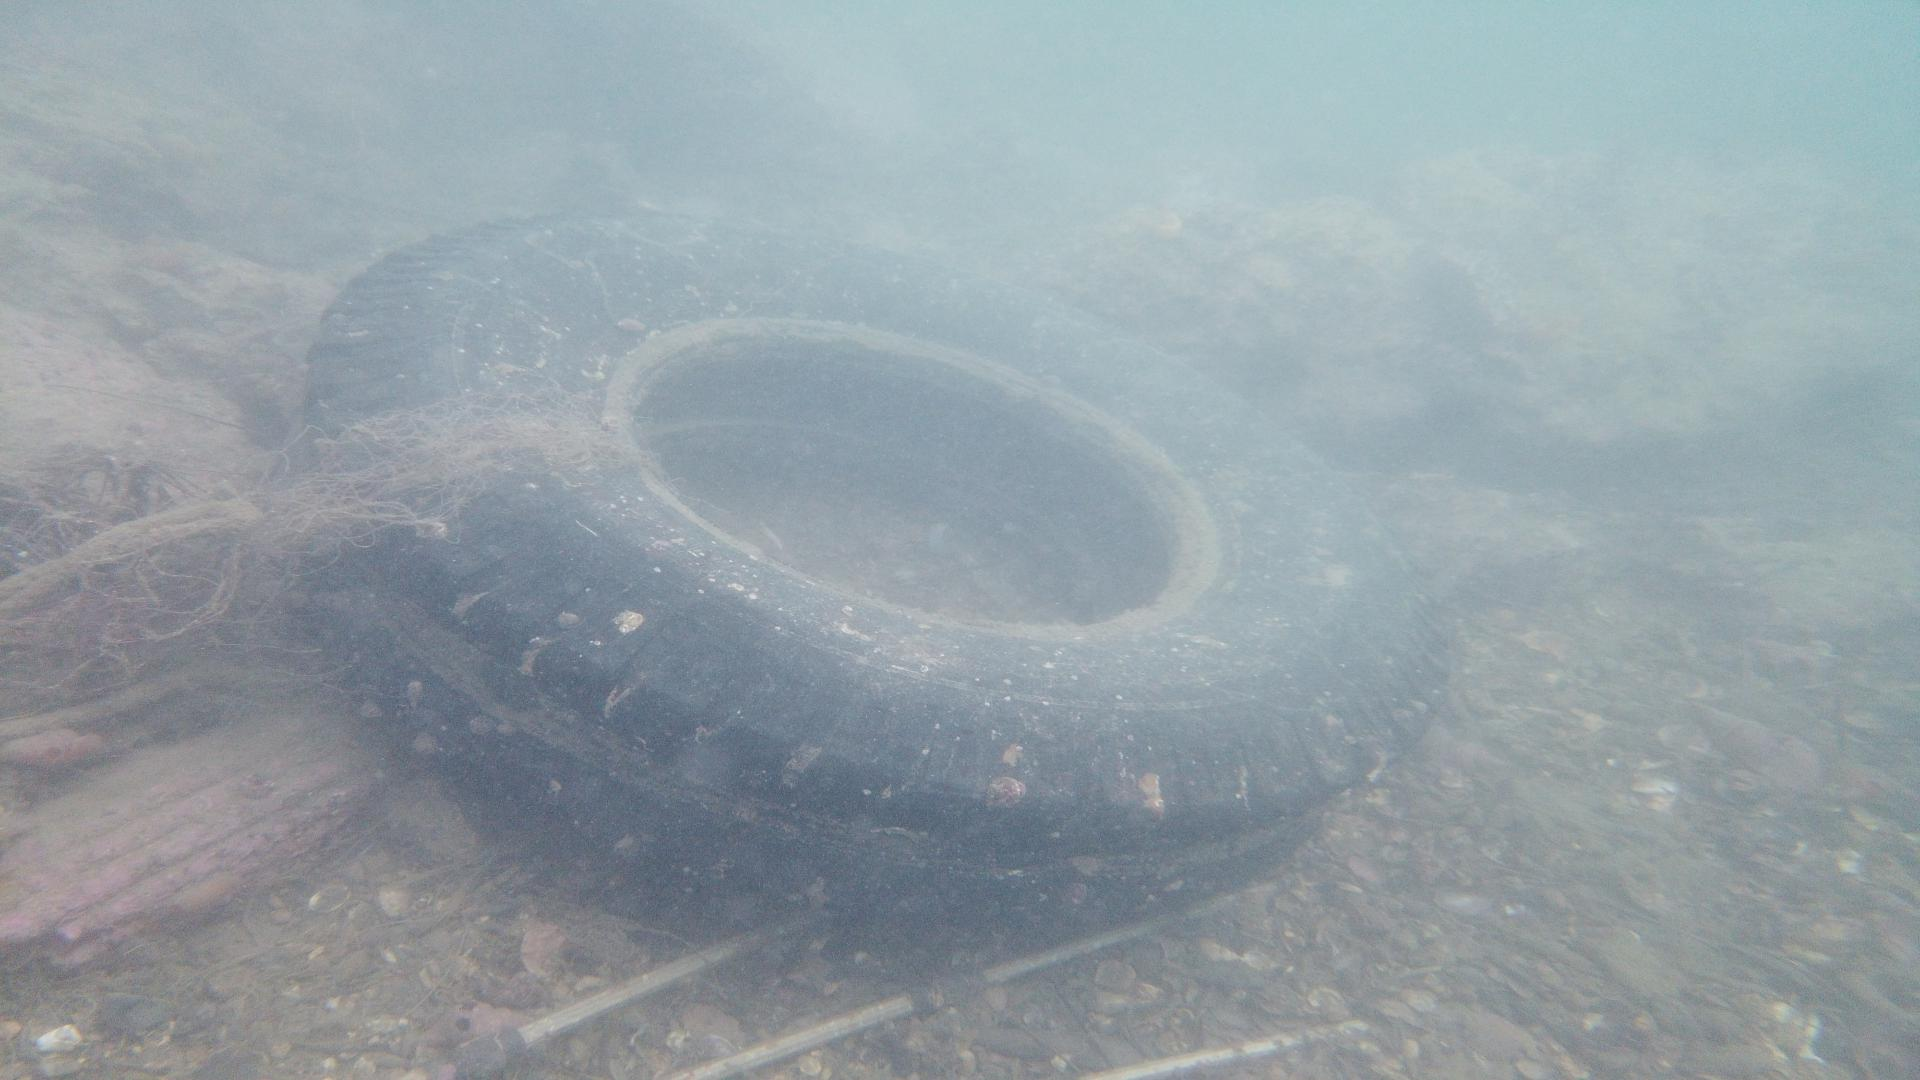tire: (305, 204, 1451, 959)
